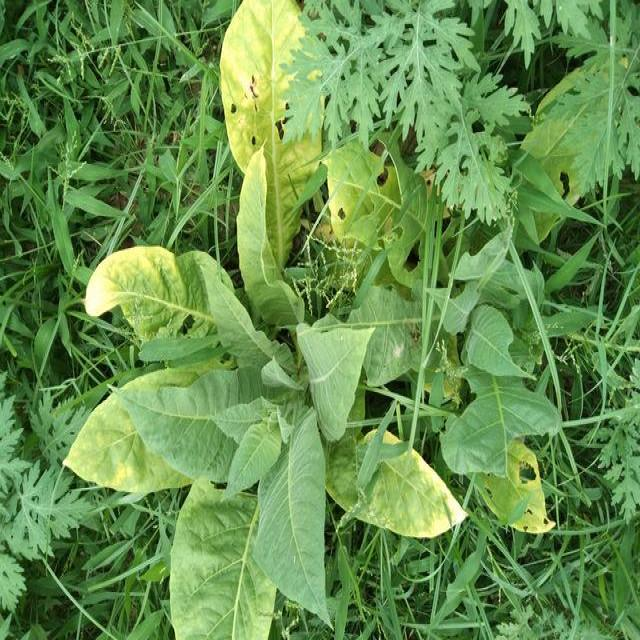crop: (76, 212, 475, 640)
